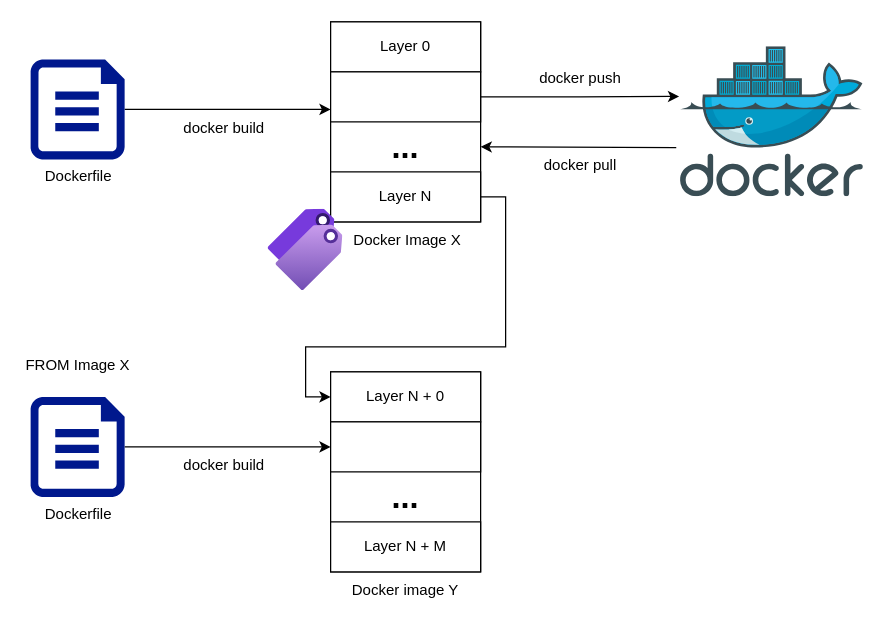
Image size: 885x631. Some labels were removed from this diagram. The shapes that lost their labels are listed below. From the top down, each one's box as (x1, y1, x2, y2) in pixels, then its label:
(329, 71, 481, 122): Layer 1
(268, 209, 342, 290): tags
(329, 421, 481, 472): Layer N + 1
